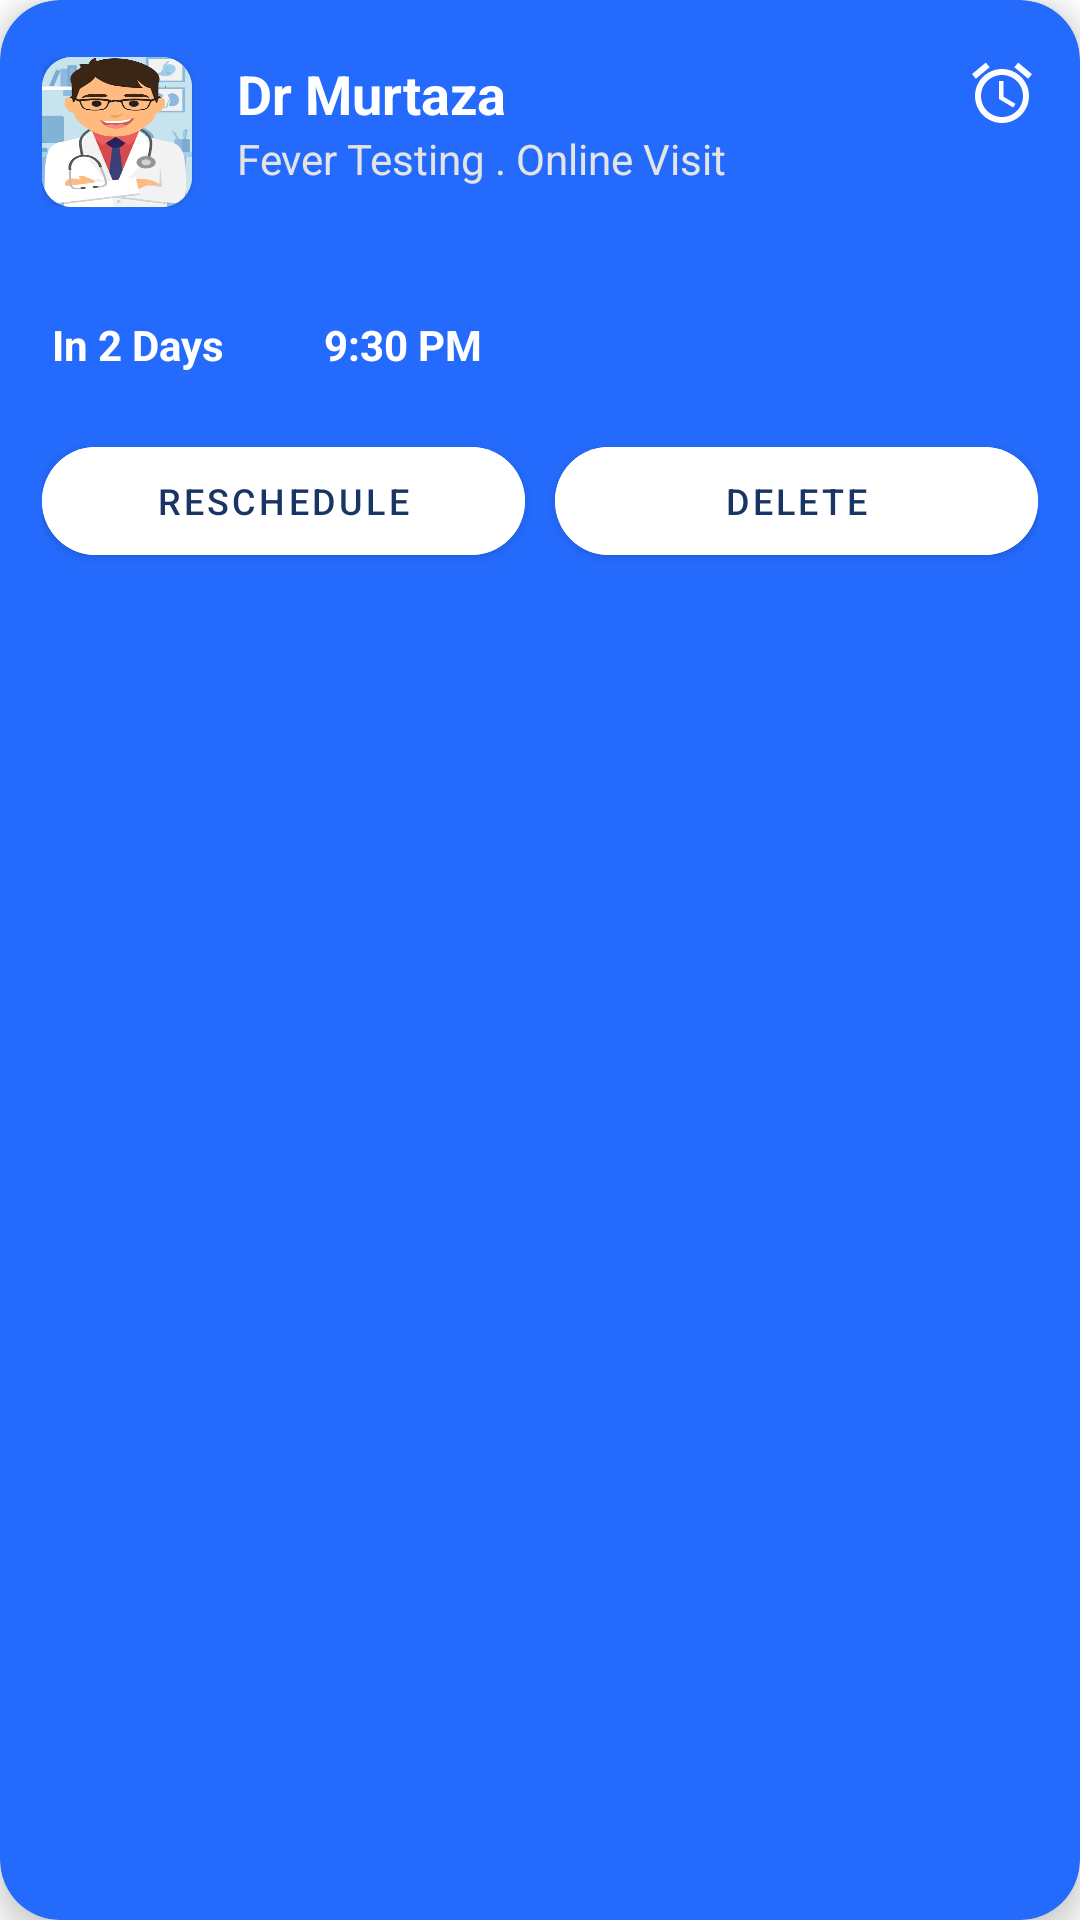

Named icons in this screenshot (1080x1920) and their bounding boxes, (x1, y1, x2, y2):
alarm: (972, 62, 1032, 123)
doctor: (42, 57, 192, 207)
